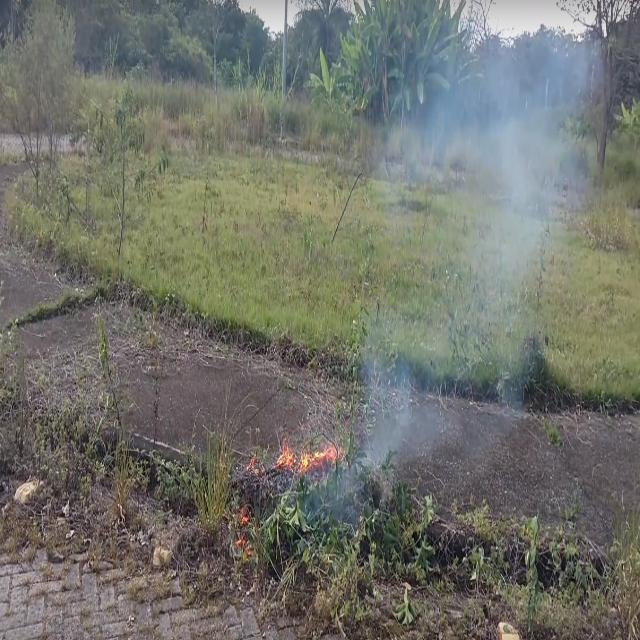Fire: (272, 429, 344, 469)
Smoke: (473, 127, 546, 321), (365, 95, 468, 194), (362, 343, 414, 474), (488, 364, 524, 444), (308, 473, 359, 526)
